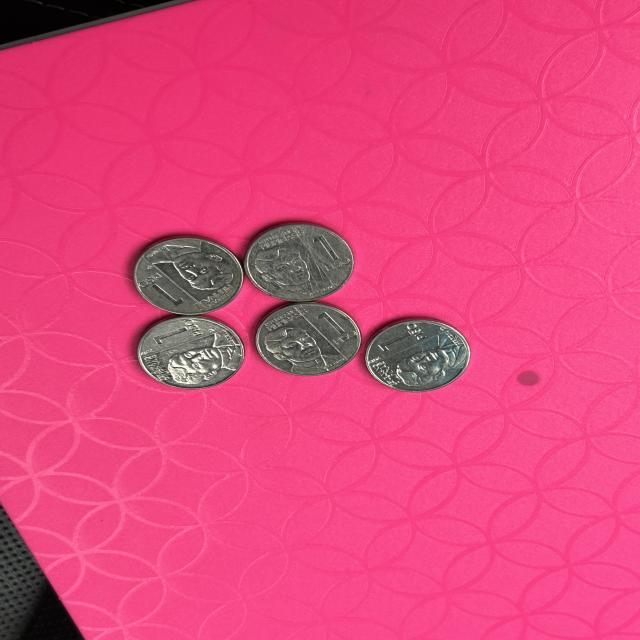1_New_Front: (313, 228, 352, 276), (136, 274, 186, 311), (314, 310, 353, 349), (372, 322, 428, 349), (151, 322, 206, 343)
